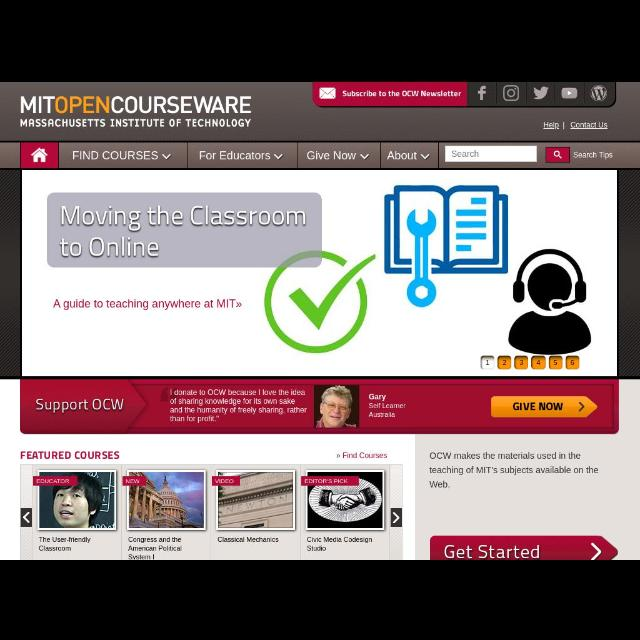button: (547, 146, 569, 164)
icon: (588, 85, 608, 102), (504, 85, 518, 104), (474, 84, 488, 102), (561, 86, 577, 100), (586, 542, 602, 556), (319, 87, 336, 99), (32, 148, 46, 162), (533, 88, 549, 100), (158, 149, 172, 161), (552, 148, 564, 160), (574, 401, 586, 412), (358, 151, 369, 161), (420, 152, 430, 160), (275, 154, 283, 160)
image: (22, 168, 616, 376), (128, 470, 206, 530), (215, 471, 295, 529), (305, 468, 383, 526), (40, 469, 116, 528), (316, 386, 358, 430)
input: (444, 148, 536, 162)
multitab: (1, 144, 639, 168)
pageindicator: (481, 355, 581, 371)
spinner: (70, 149, 172, 163), (198, 150, 286, 162), (307, 152, 369, 164), (386, 150, 432, 162)
text: (56, 205, 310, 258), (19, 95, 251, 129), (426, 450, 602, 490), (168, 387, 310, 427), (52, 296, 244, 316), (36, 395, 126, 413), (365, 389, 409, 423), (126, 537, 190, 559), (342, 90, 458, 100), (39, 532, 95, 552), (72, 151, 158, 163), (20, 450, 120, 460), (444, 546, 538, 556), (196, 150, 272, 162), (215, 533, 285, 545), (306, 538, 372, 550), (541, 120, 611, 130), (308, 150, 357, 162), (338, 449, 386, 461), (510, 402, 564, 410), (573, 150, 613, 160), (454, 149, 478, 157), (389, 152, 416, 158)
textbutton: (429, 539, 613, 559)
toolbar: (2, 82, 640, 142)
